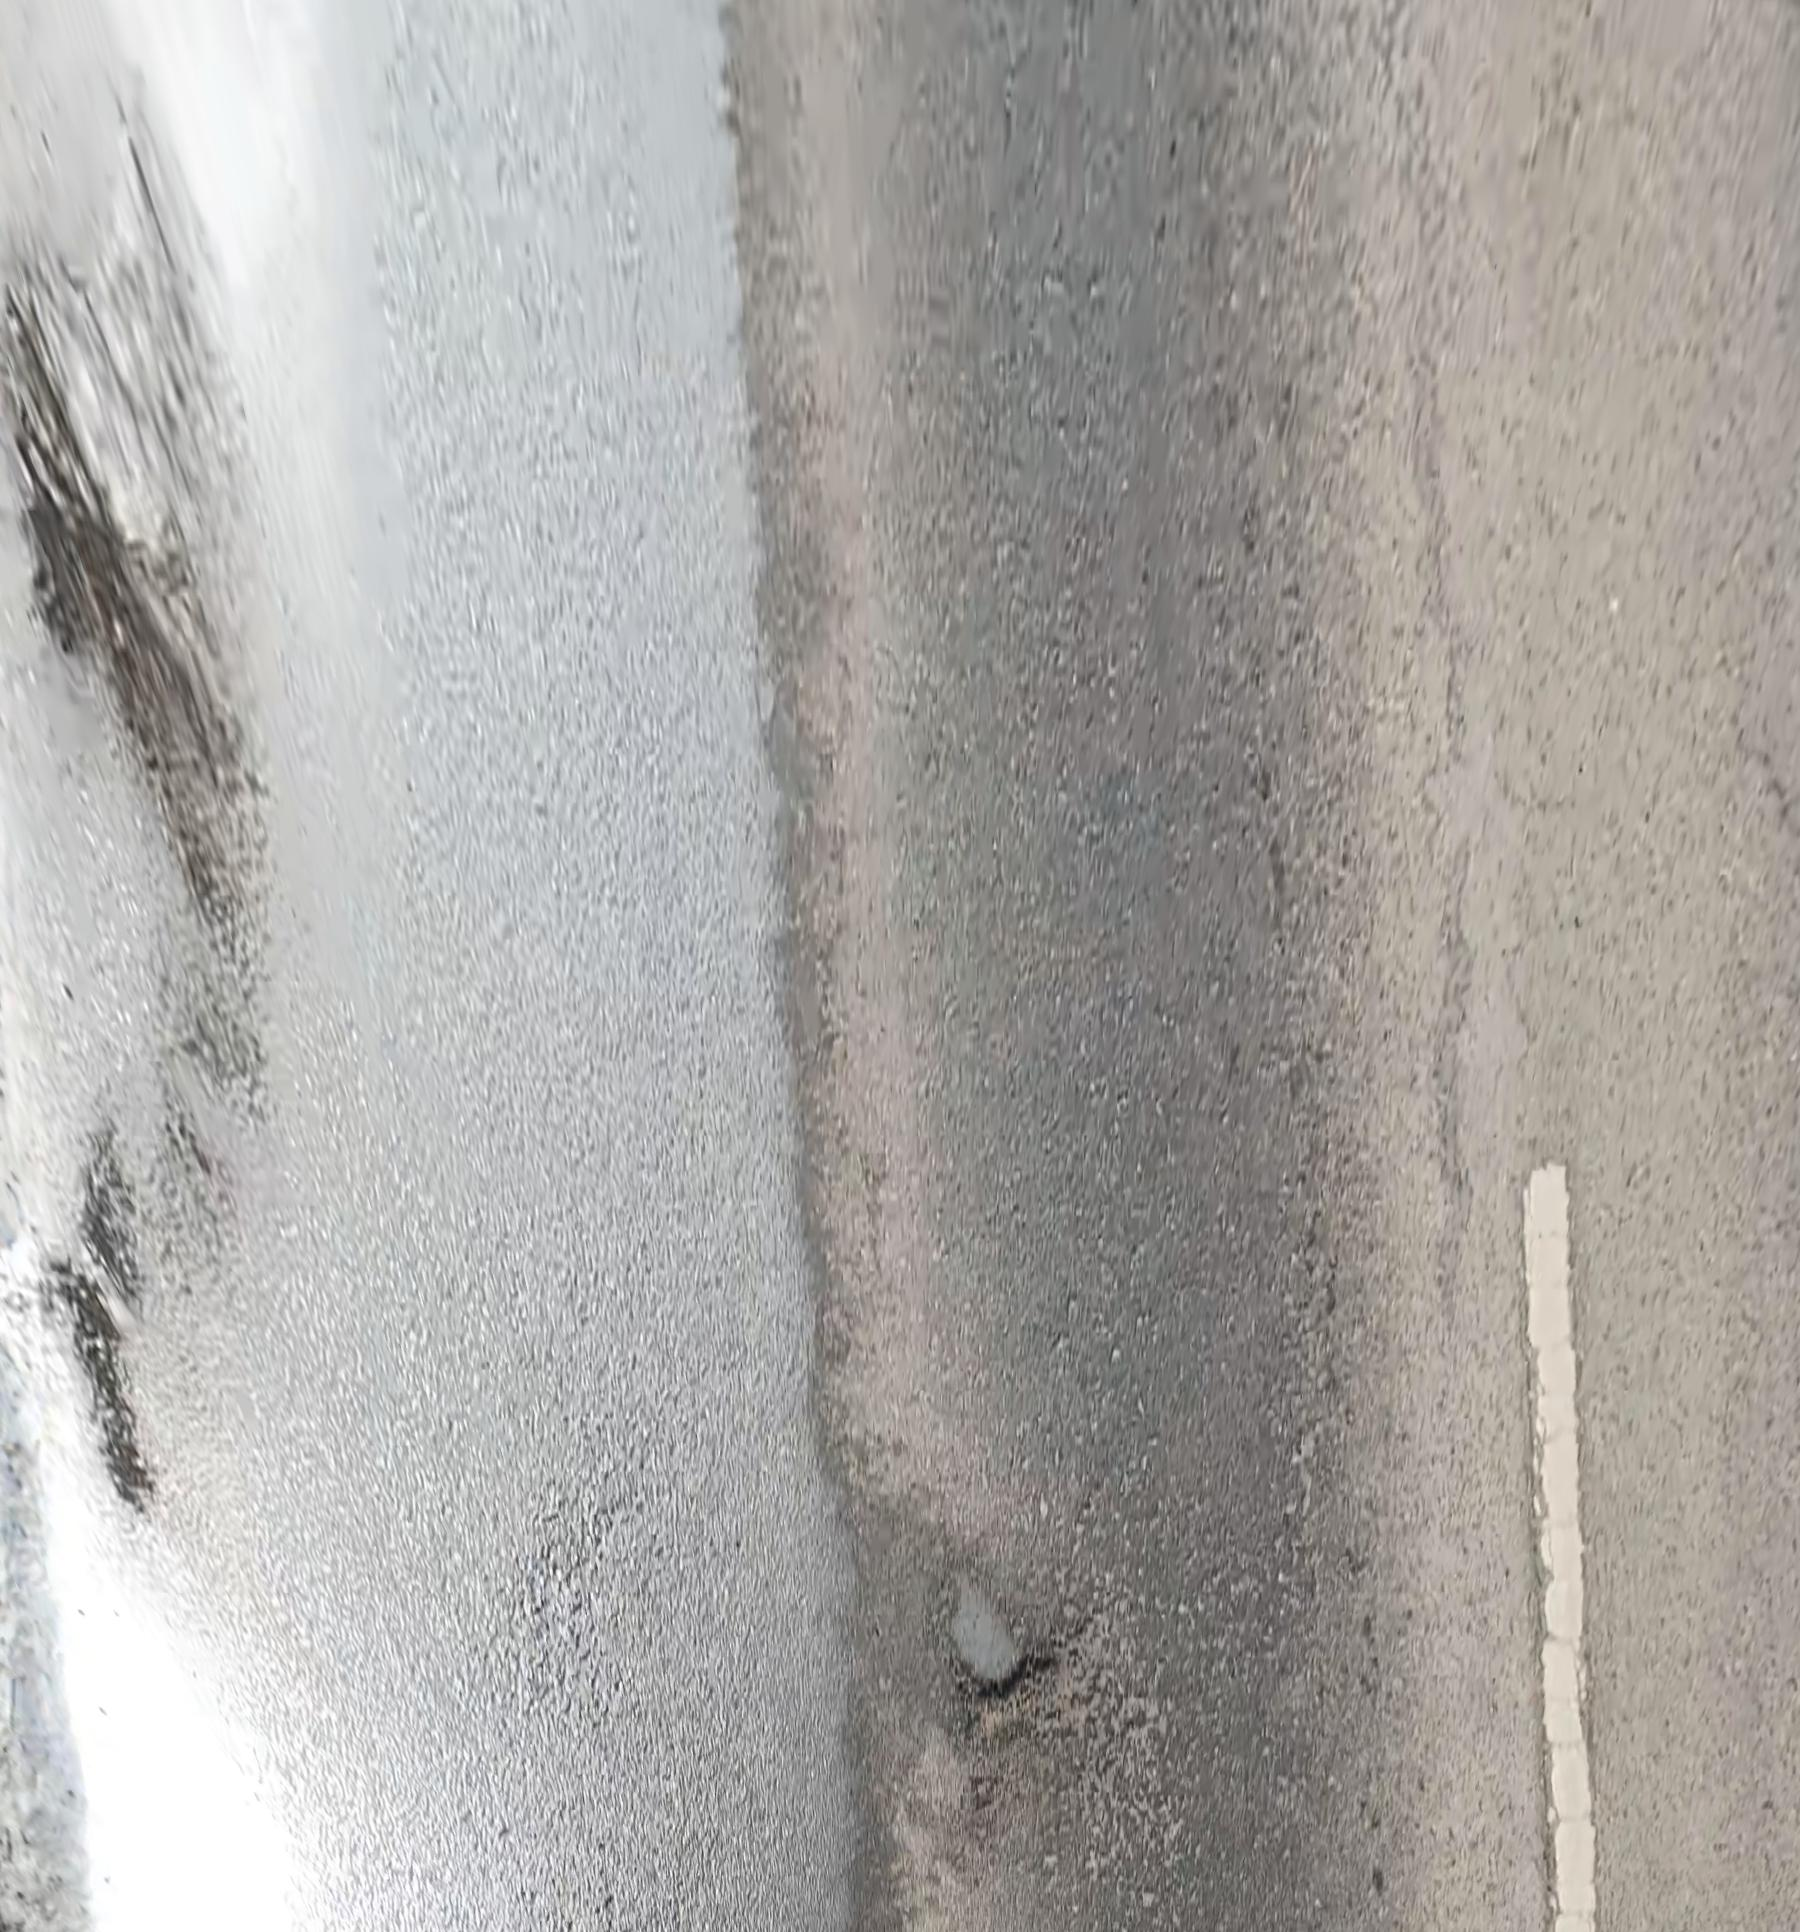pothole: (944, 1617, 1108, 1749)
